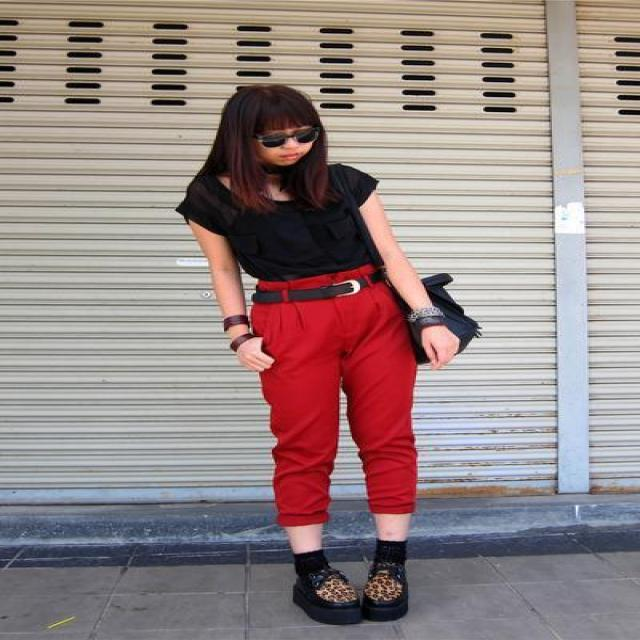pants: (251, 294, 432, 526)
shirt: (176, 167, 382, 280)
shoe: (293, 540, 406, 625)
sunglass: (267, 110, 363, 140)
